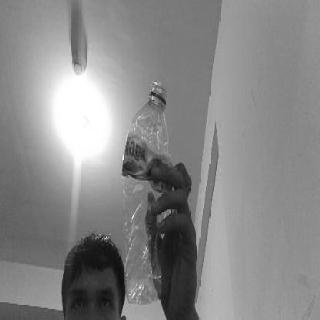plastic_bottles: (125, 82, 167, 300)
